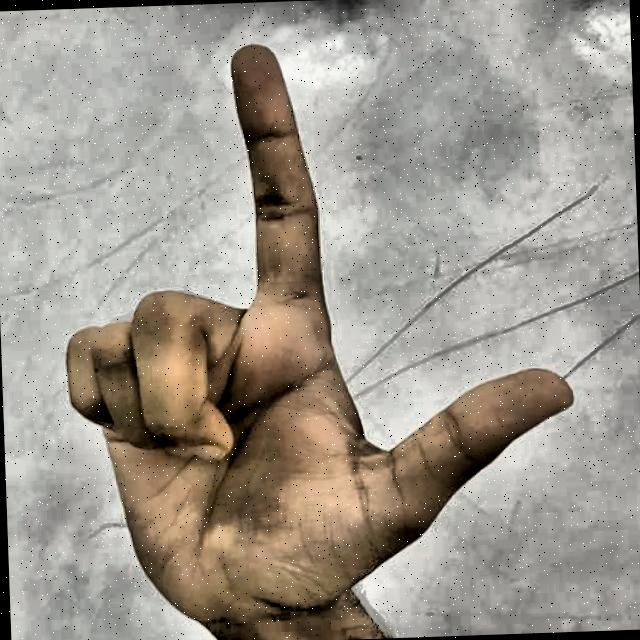La: (19, 17, 593, 640)
